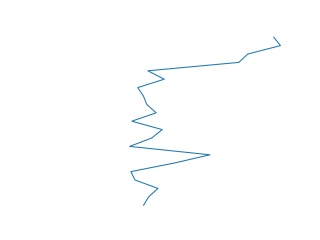crevasseRiverChannelBar: (124, 32, 285, 211)
